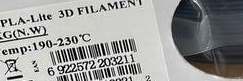1d: (48, 37, 137, 65)
